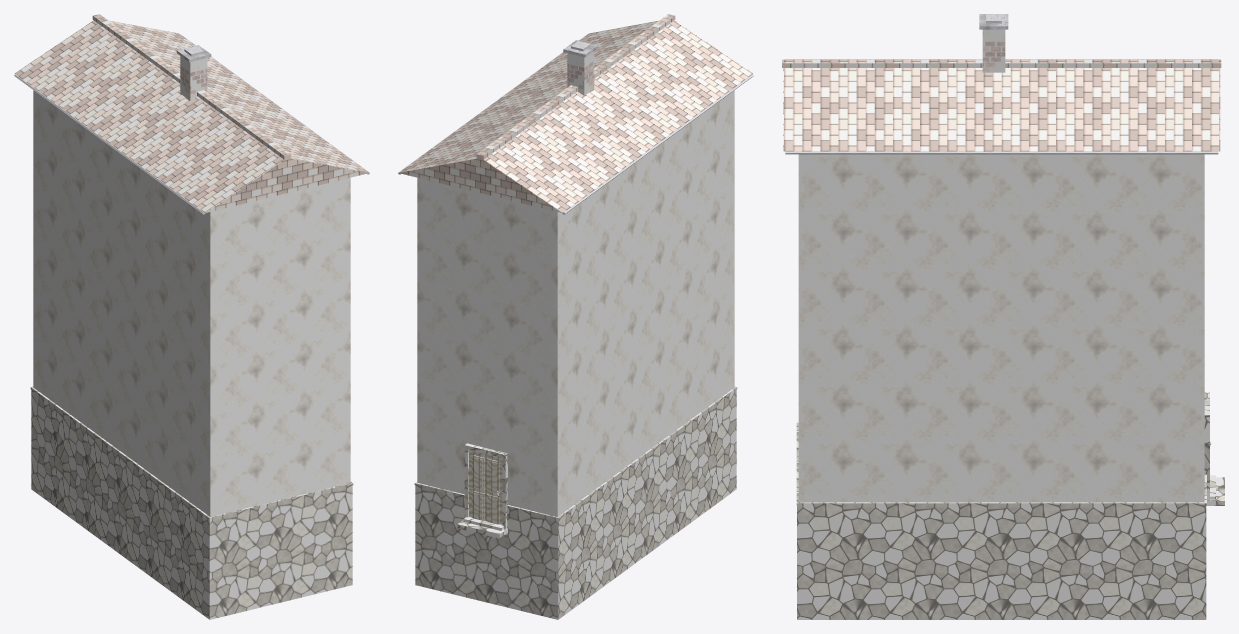
The picture shows the model from 3 angles, left to right: view 1: azimuth 30°, elevation 25°; view 2: azimuth 150°, elevation 25°; view 3: azimuth 270°, elevation 25°; orthographic projection. The views are drawn at different scales.
Visible parts, largest first — view 1: b1088806801; view 2: b1088806801; view 3: b1088806801.
Part boxes in pixels (left/top/right/bottom): b1088806801: left=14, top=14, right=369, bottom=619; b1088806801: left=398, top=14, right=753, bottom=619; b1088806801: left=782, top=14, right=1224, bottom=619.
Size of the model in its own units: 4.88 by 13.68 by 9.78.
Materials: 14 (14 with a texture image).
